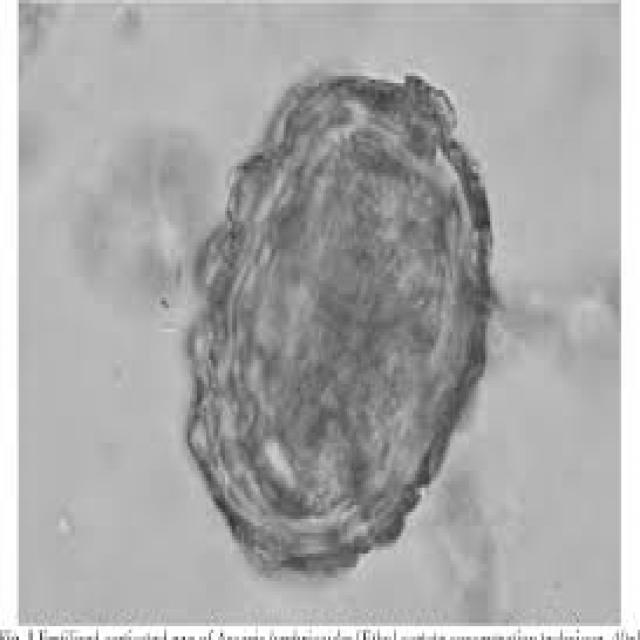Ascaris Lumbricoides: (177, 59, 496, 598)
